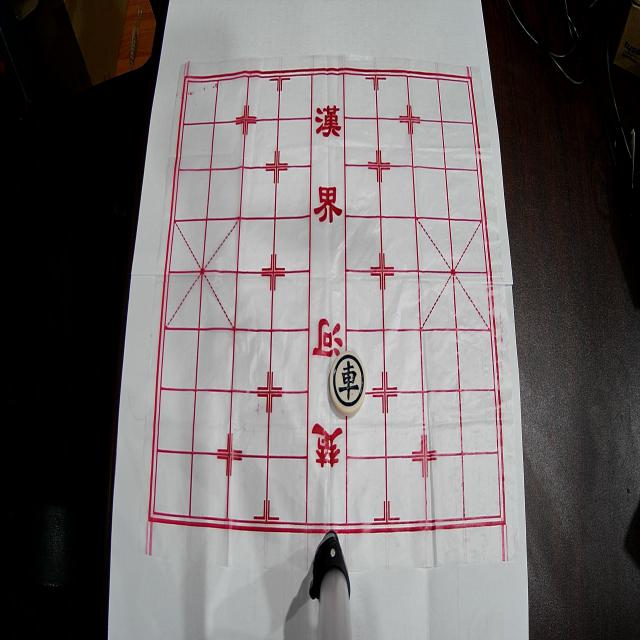black-chariot: (329, 351, 366, 416)
